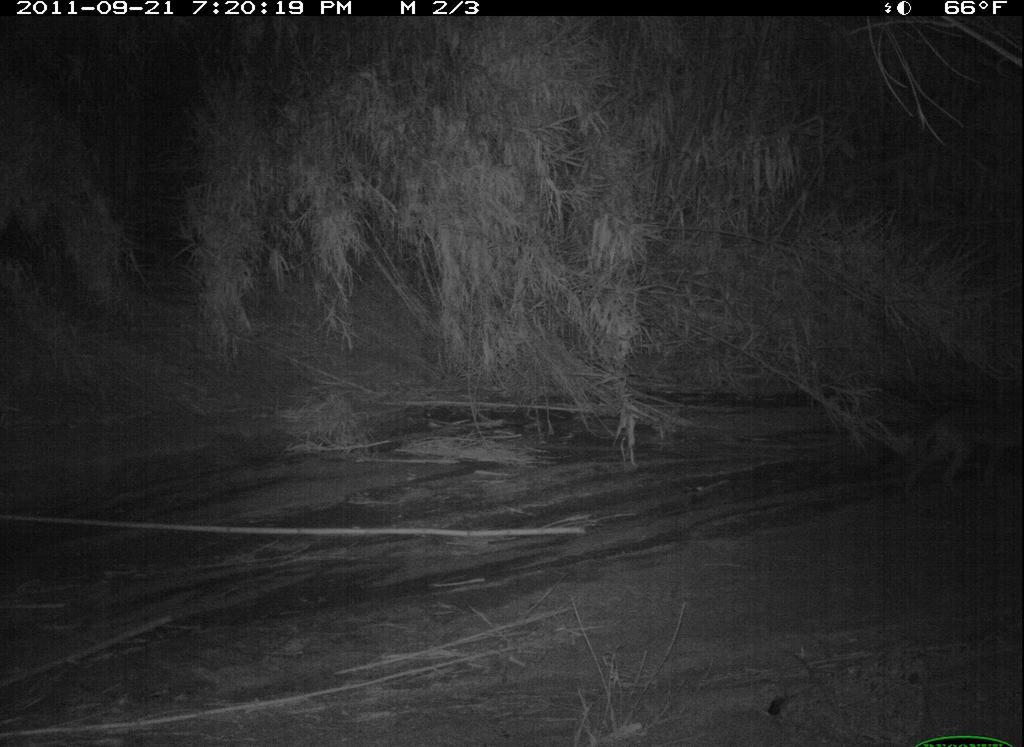coyote: (903, 419, 1023, 514)
